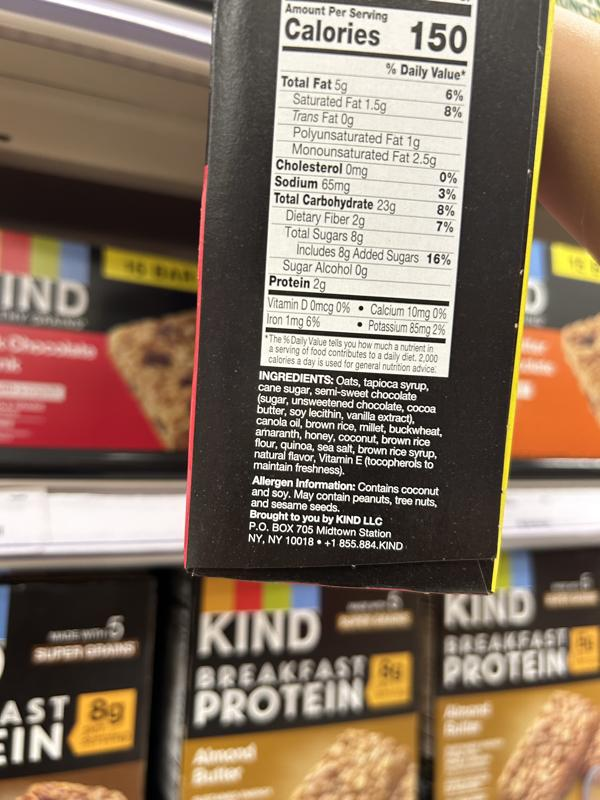ingredients: (249, 368, 446, 479)
